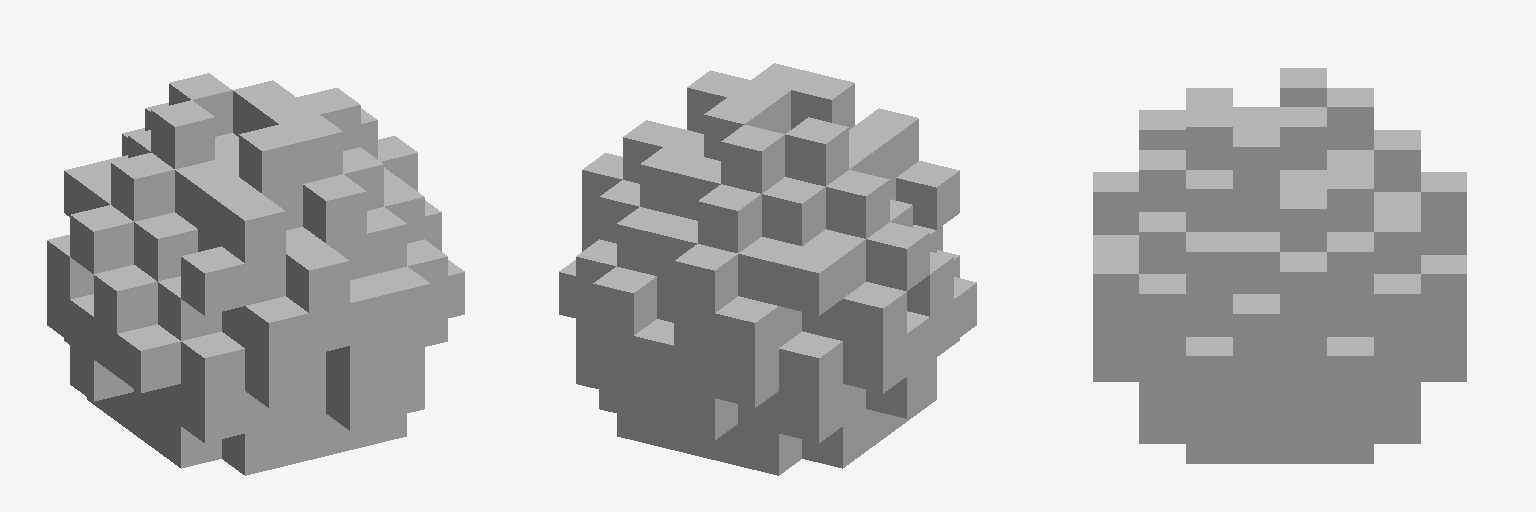
File: Bush.obj
3 views of the same model, side by side, from view 1: azimuth 30°, elevation 25°; view 2: azimuth 150°, elevation 25°; view 3: azimuth 270°, elevation 25° (orthographic).
Visible parts, largest first — view 1: object 1; view 2: object 1; view 3: object 1.
Boxes of the visible parts, box(x1,y1,x2,y2) form: object 1: box(47, 73, 464, 475); object 1: box(559, 63, 976, 475); object 1: box(1093, 68, 1466, 463).
Size of the model in its own units: 0.8 by 0.7 by 0.8.